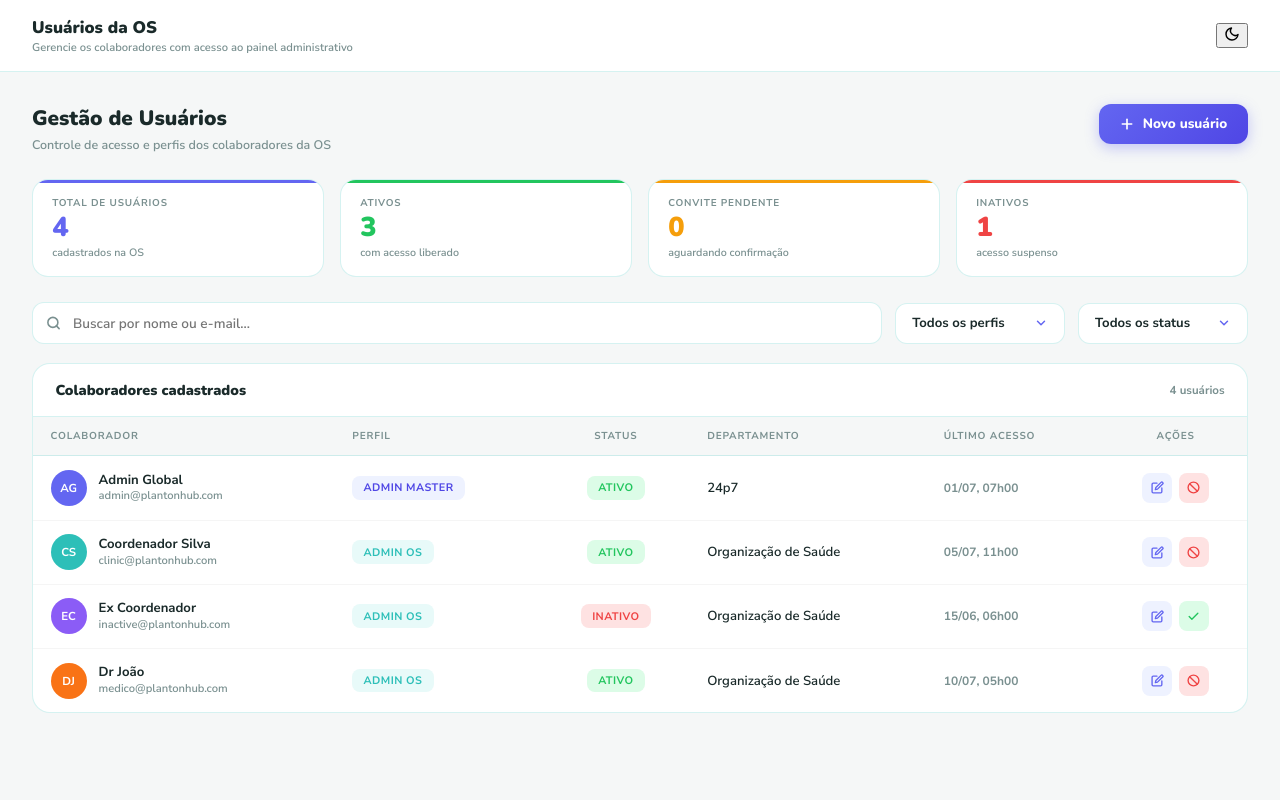
it: <AdminUsuariosOS /> › exibe erro e mantém drawer aberto quando a criação falha
Expected: the text "Admin Global" is shown, top-left (99, 471), bottom-right (183, 489)
Click the button "Novo usuário". click: [1173, 124]
box: top-left (1099, 104), bottom-right (1248, 144)
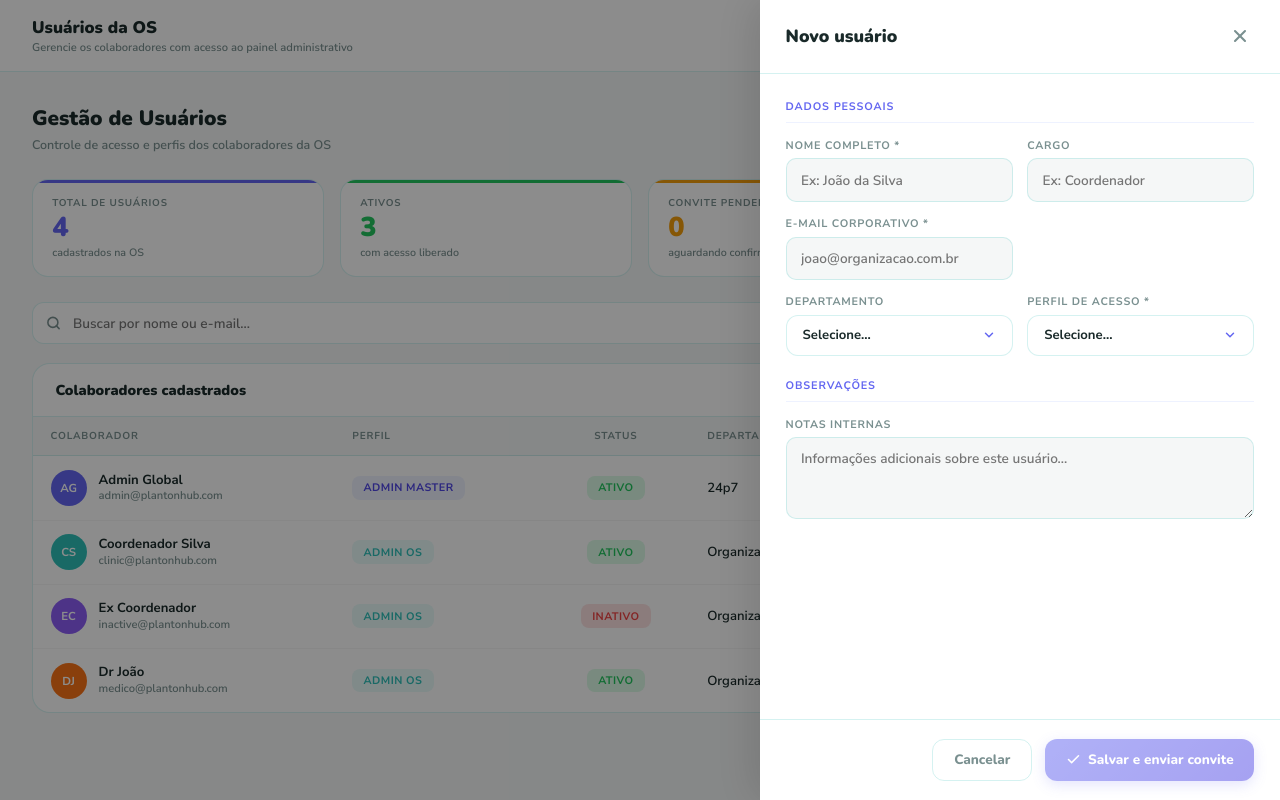
Type "Duplicado" into the field with placeholder "Ex: João da Silva". click: [899, 180]
box: top-left (786, 158), bottom-right (1013, 202)
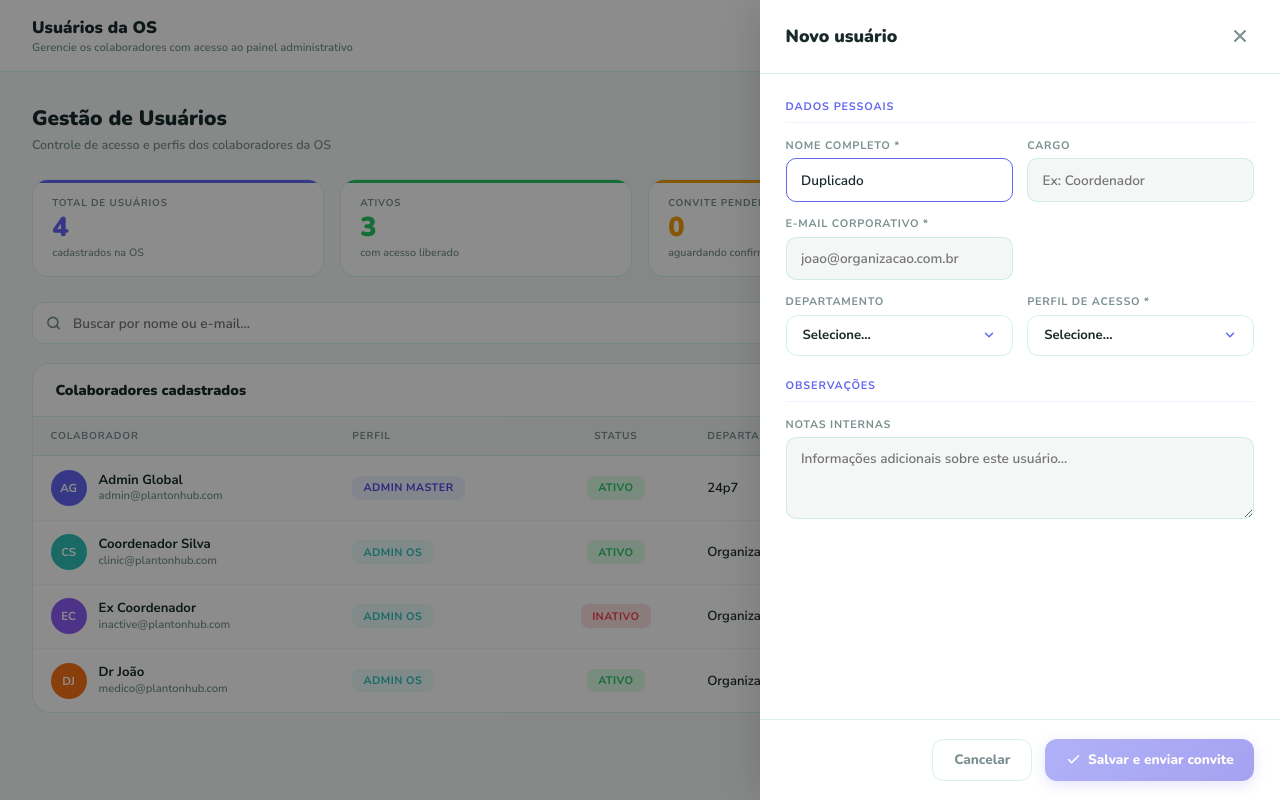
Type "dup@os.com" into the field with placeholder "joao@organizacao.com.br". click: [899, 258]
box: top-left (786, 237), bottom-right (1013, 280)
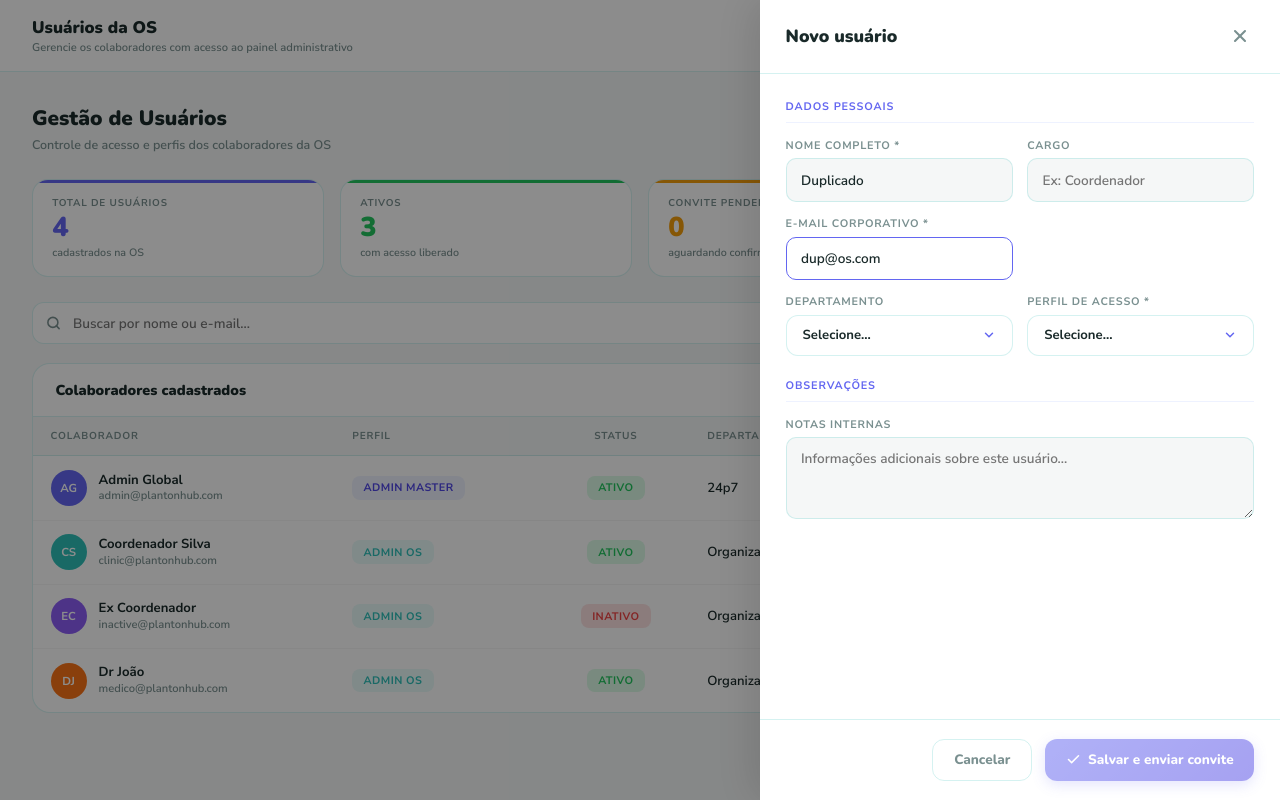
Click the button with class "uos-cselect-btn" below "Perfil de acesso *". click: [1141, 336]
box: top-left (1027, 315), bottom-right (1254, 356)
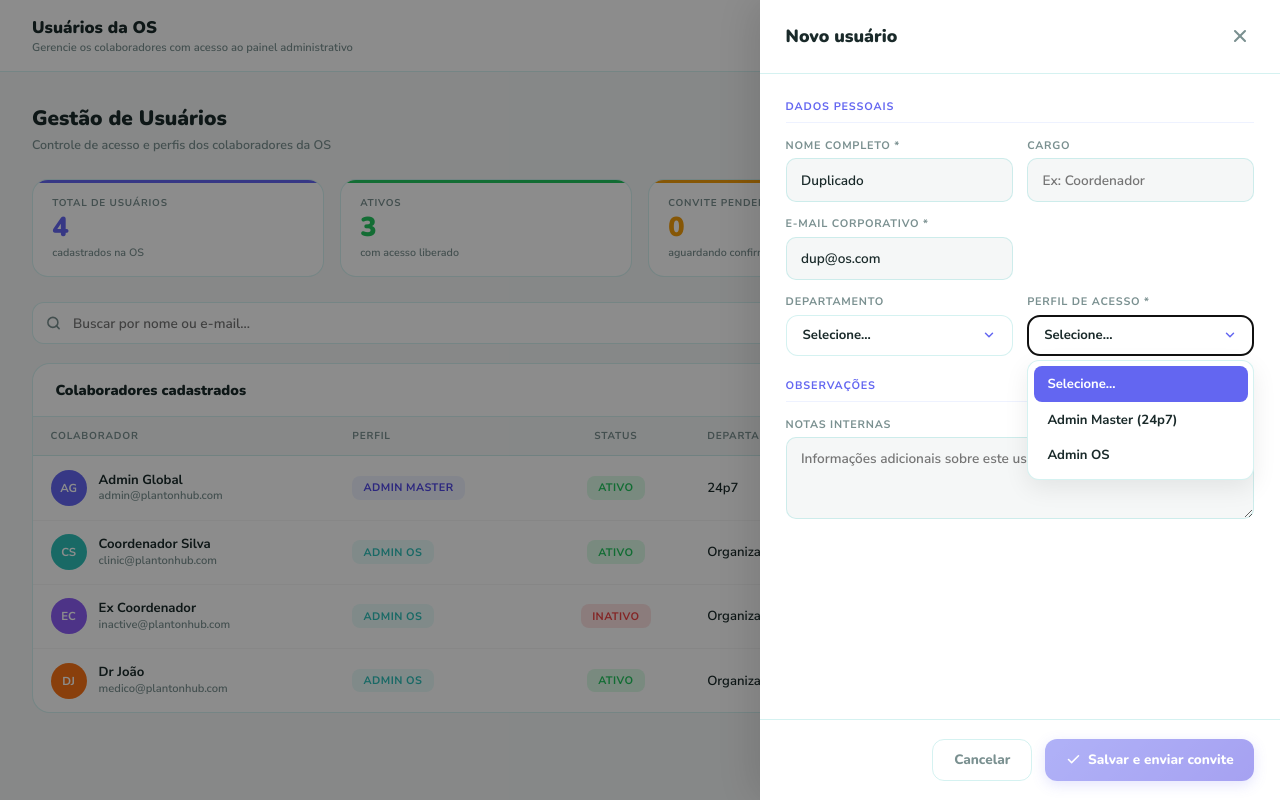
Click the text "Admin OS". click: [1078, 455]
box: top-left (1047, 446), bottom-right (1110, 464)
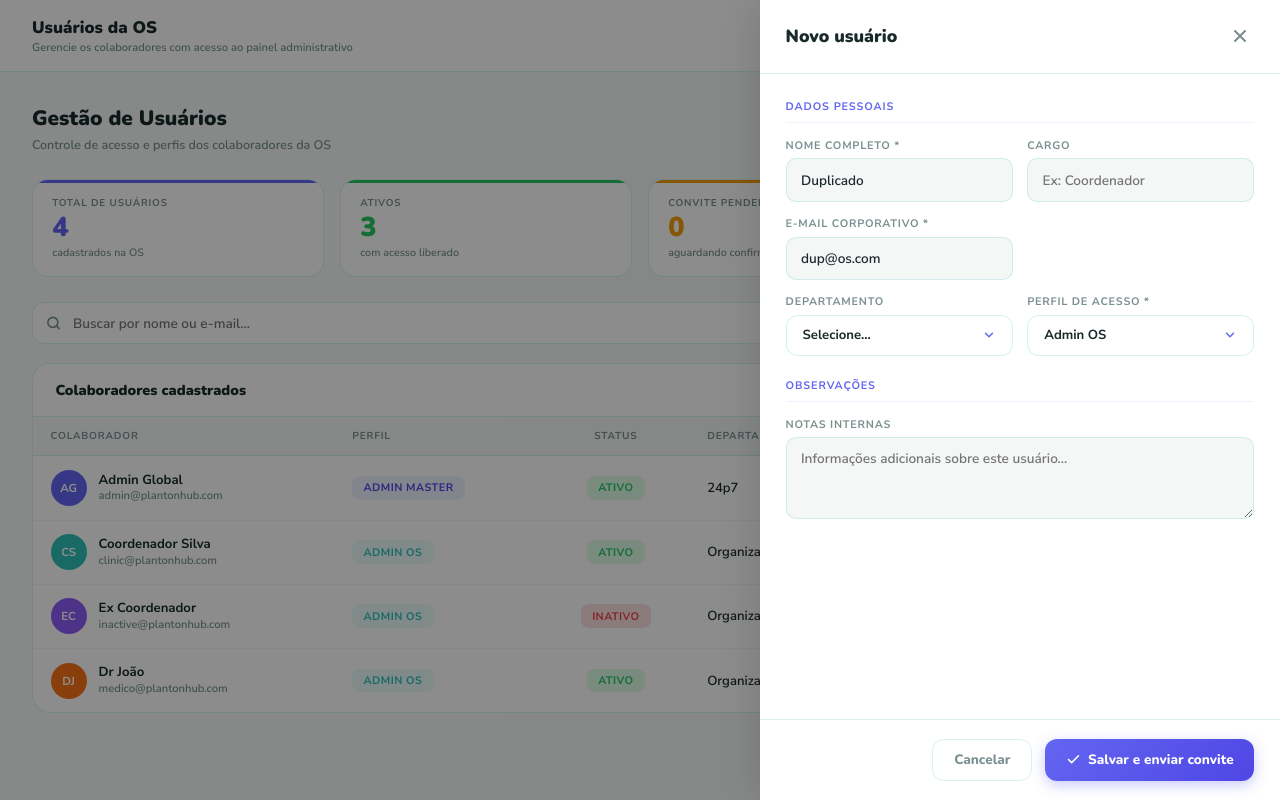
Click the button "Salvar e enviar convite". click: [1150, 760]
box: top-left (1045, 739), bottom-right (1254, 781)
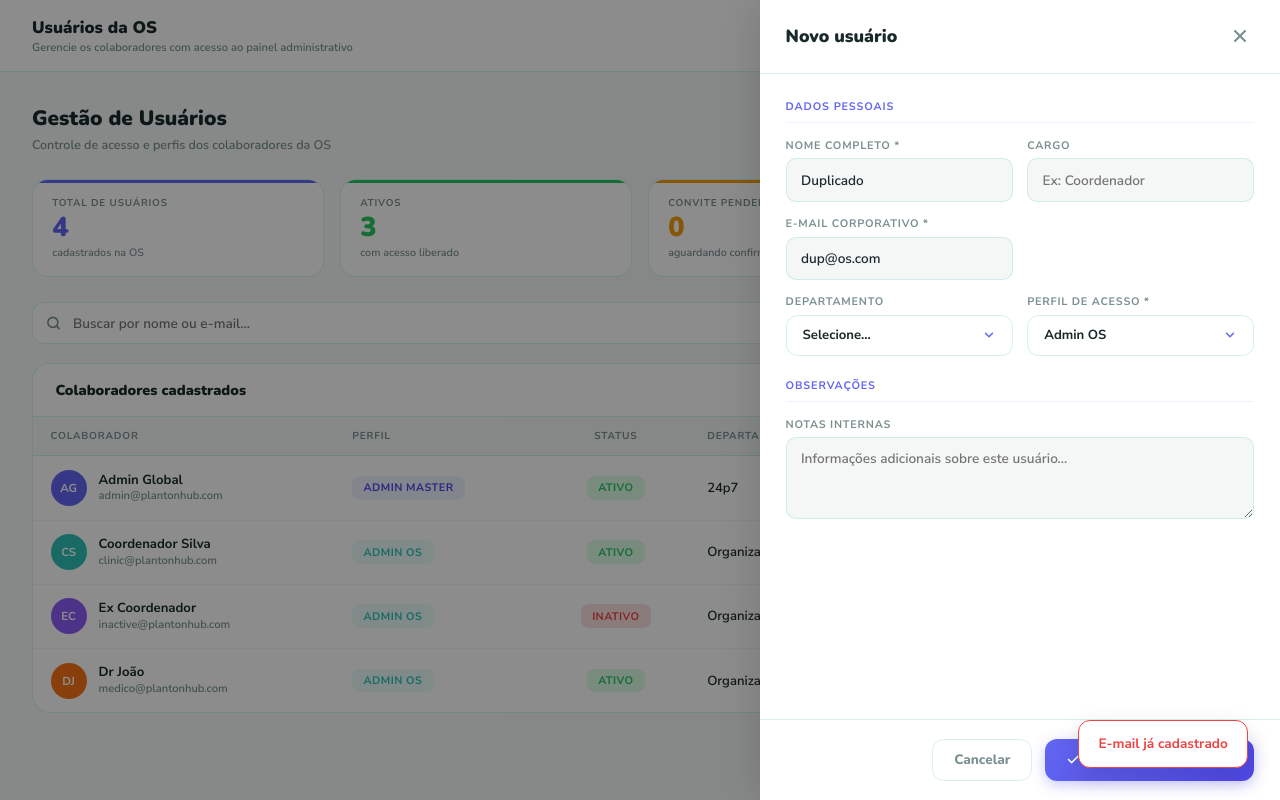
Expected: the text "E-mail já cadastrado" is shown, top-left (1098, 734), bottom-right (1228, 753)
